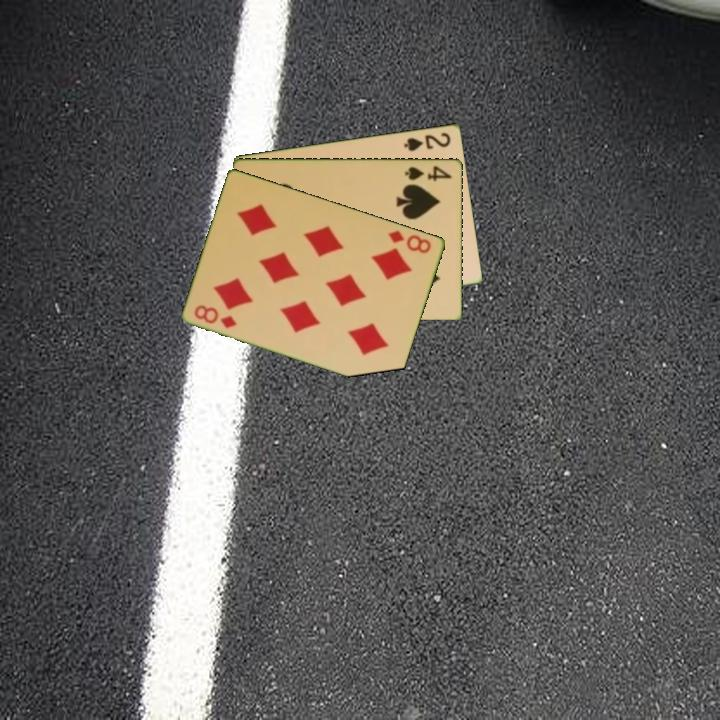2s: (401, 129, 454, 154)
4s: (401, 162, 455, 184)
8d: (191, 301, 240, 331), (385, 227, 434, 256)
